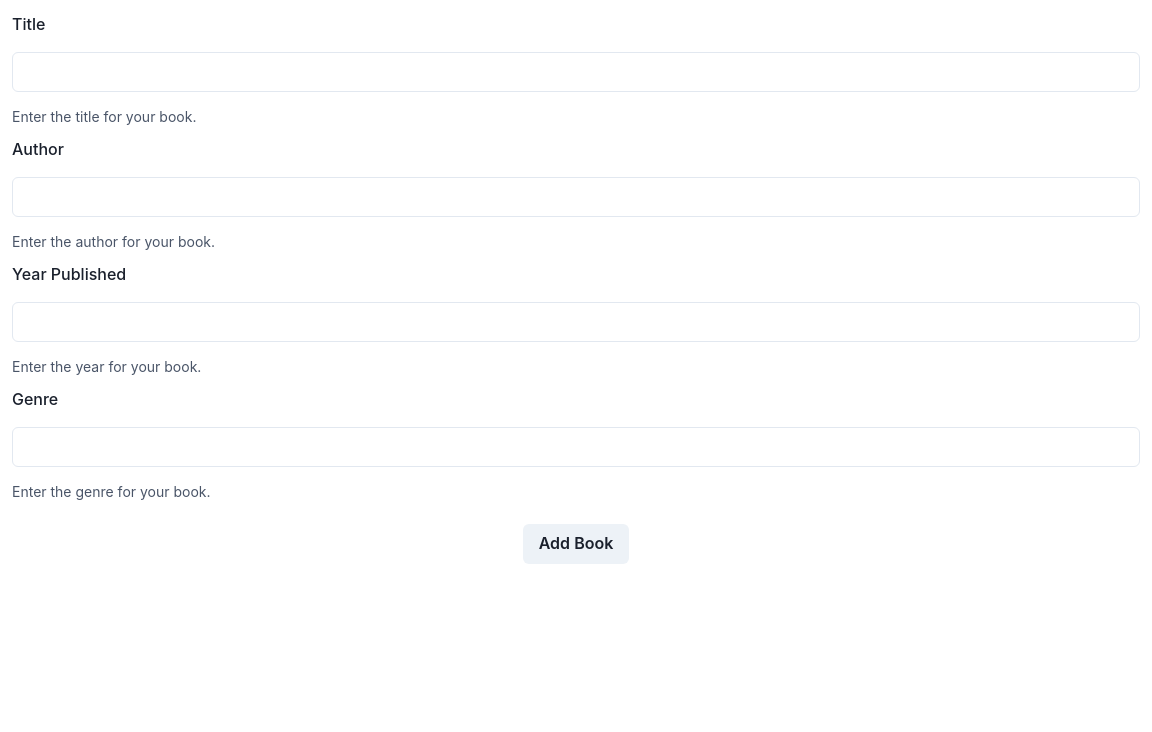
Test case: BookForm › displays error messages for required fields
What coordinates should you click on to do the following:
click the button with test id "submit-button"
I would click on:
 (576, 544)
Its box is [523,524,629,564].
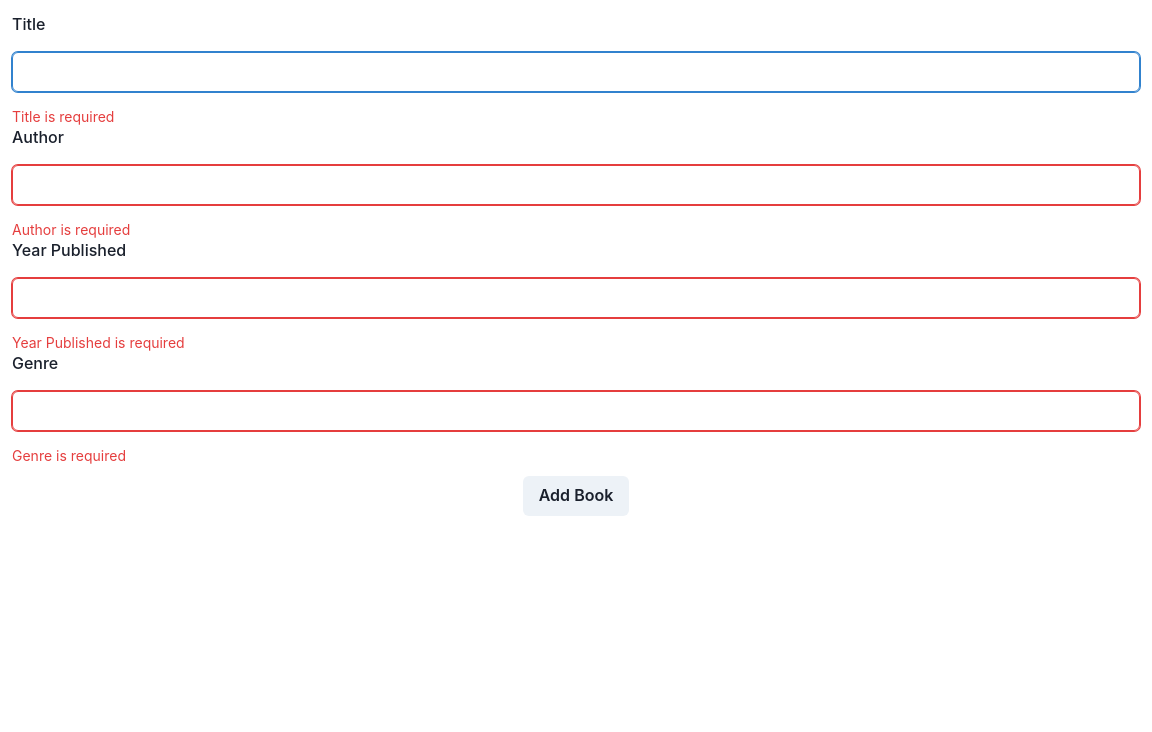
Check: the text with test id "error-title" reads "Title is required", box [12,108,114,125]
Check: the text with test id "error-author" reads "Author is required", box [12,221,130,238]
Check: the text with test id "error-year" reads "Year Published is required", box [12,334,185,351]
